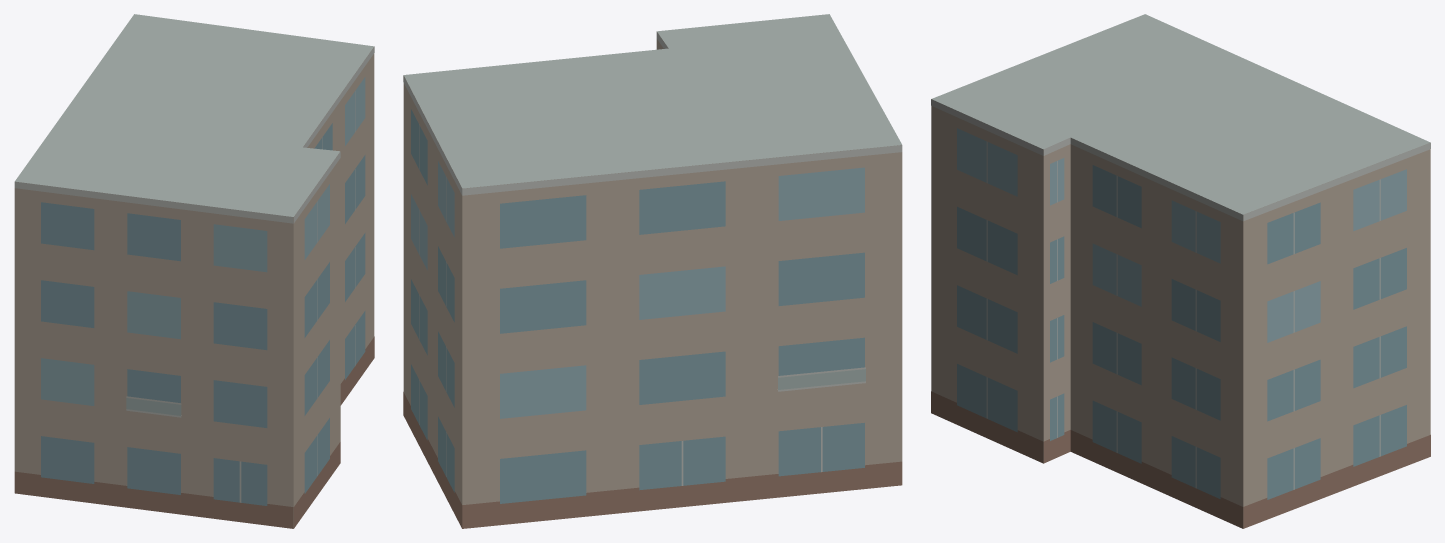
Rendered from survey-upis-32597791.glb.
3 views of the same model, side by side, from view 1: azimuth 30°, elevation 25°; view 2: azimuth 150°, elevation 25°; view 3: azimuth 270°, elevation 25° (orthographic). The views are drawn at different scales.
Visible parts, largest first — view 1: survey-upis-32597791.tmp; view 2: survey-upis-32597791.tmp; view 3: survey-upis-32597791.tmp.
Part boxes in pixels (x1=…): survey-upis-32597791.tmp: x1=14, y1=14, x2=374, y2=528; survey-upis-32597791.tmp: x1=403, y1=14, x2=902, y2=528; survey-upis-32597791.tmp: x1=931, y1=14, x2=1430, y2=528.
Bounding box in the file's own units: 15.91 × 11.6 × 16.73.
